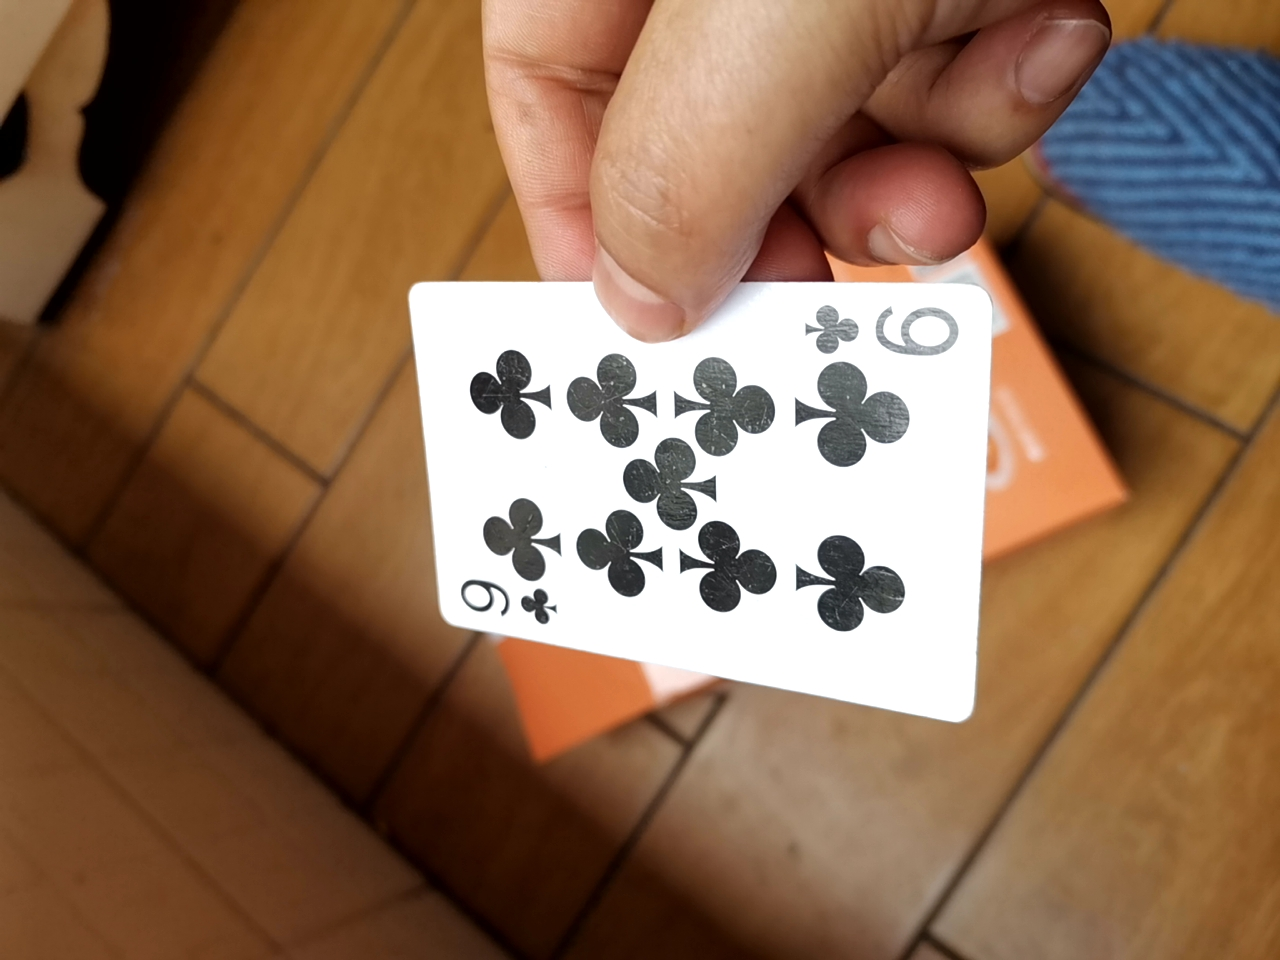mh 9: (389, 265, 991, 721)
